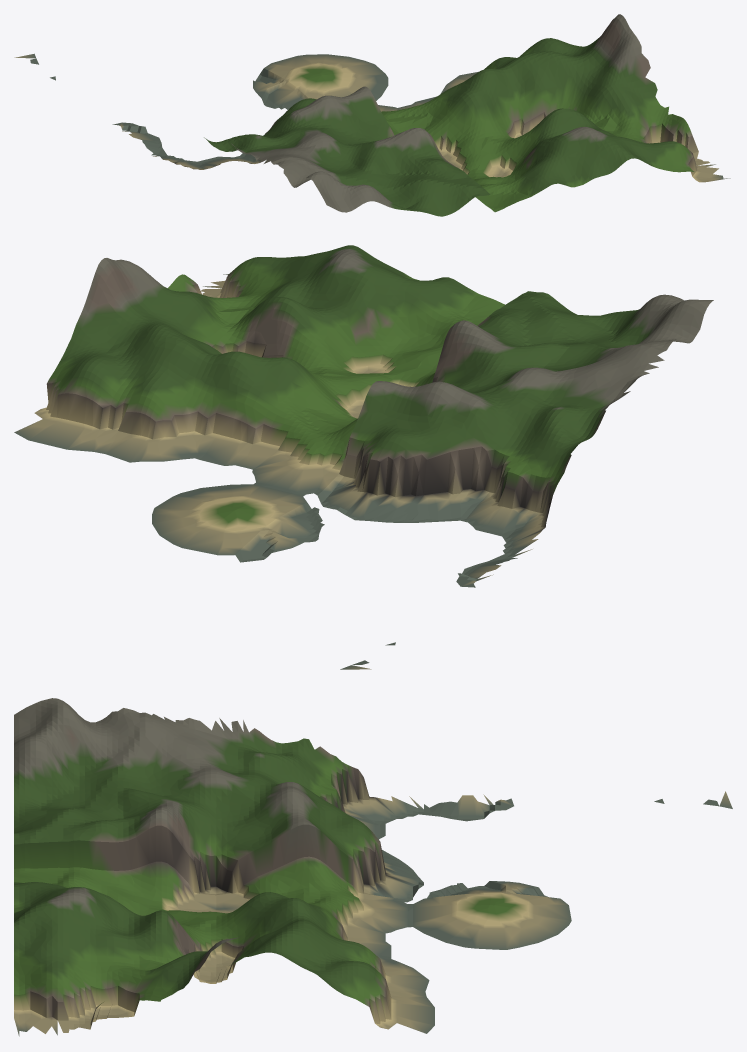
Rendered from coast_tile_x1z3_lod1.glb.
The picture shows the model from 3 angles, top to bottom: view 1: azimuth 30°, elevation 25°; view 2: azimuth 150°, elevation 25°; view 3: azimuth 270°, elevation 25°; orthographic projection. The views are drawn at different scales.
Parts seen in each view (by area): view 1: geometry_0; view 2: geometry_0; view 3: geometry_0.
Part boxes in pixels (box(x1,y1,x2,y2)): geometry_0: box(14, 14, 730, 216); geometry_0: box(14, 245, 713, 669); geometry_0: box(14, 698, 732, 1036).
Size of the model in its own units: 630 by 134 by 789.
